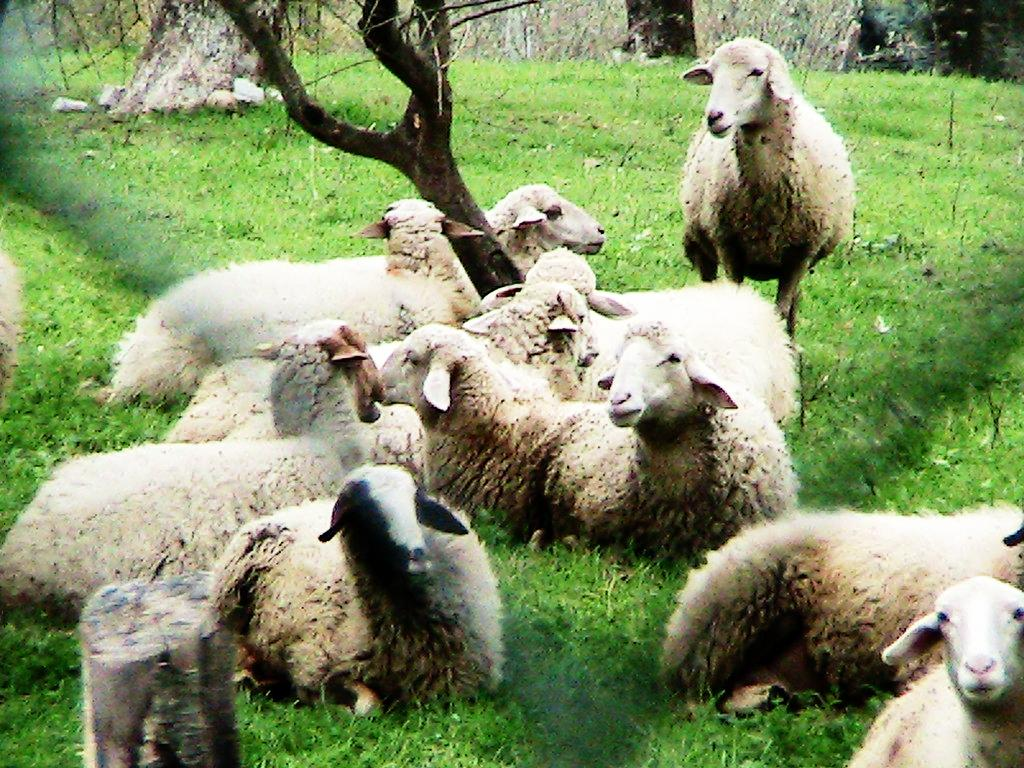Sheep: (2, 332, 409, 622), (664, 504, 1024, 706), (206, 469, 502, 699), (130, 202, 473, 394), (522, 326, 791, 563), (366, 324, 613, 545), (473, 258, 787, 419), (664, 37, 859, 280), (859, 579, 1024, 768), (0, 251, 24, 422)
